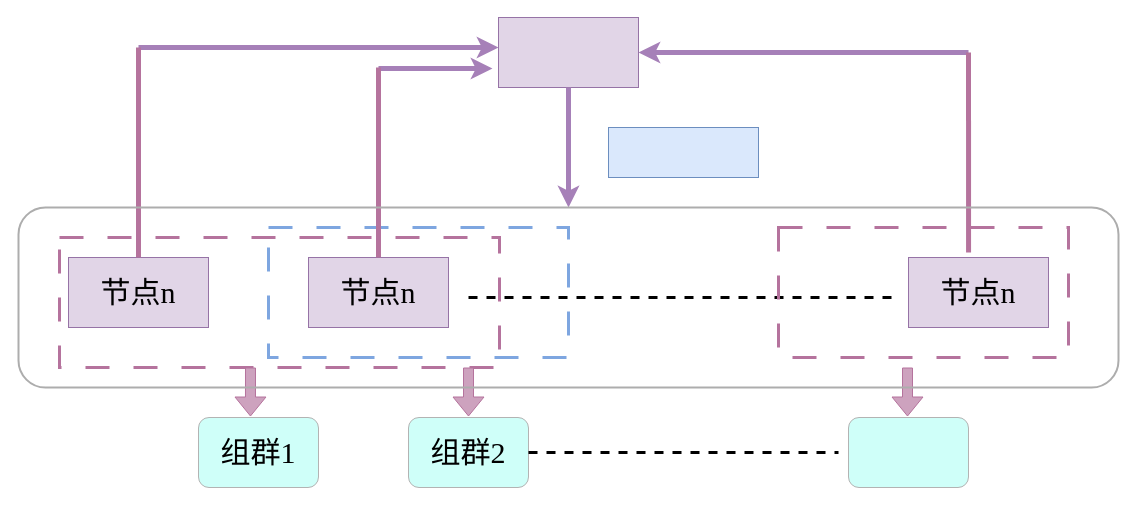
Some shapes in this 1136 by 505 pixel diagram are drawn without their labels. The box of each missing label's shape, as (x1, y1, x2, y2) in pixels:
指标函数: (608, 126, 758, 178)
第三方: (498, 16, 638, 88)
组群n: (848, 416, 968, 488)
